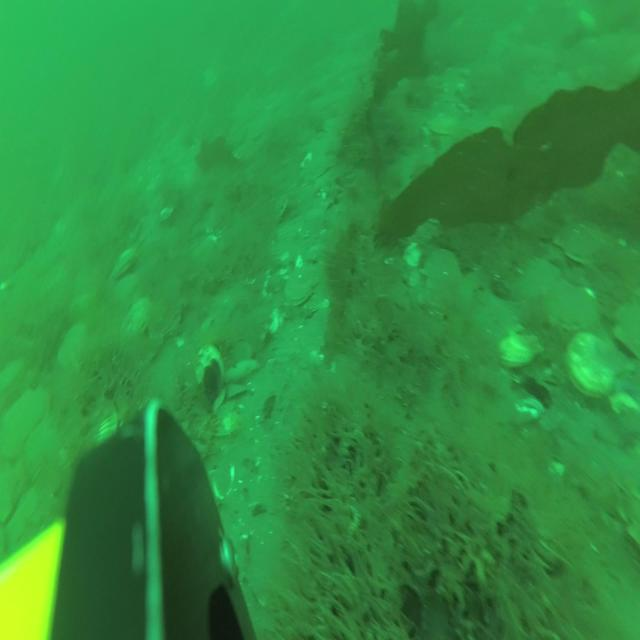scallop: (567, 330, 613, 394), (2, 389, 44, 458), (557, 210, 601, 266), (514, 254, 560, 304), (546, 279, 590, 330), (498, 326, 541, 373), (85, 402, 118, 455), (123, 297, 155, 347), (59, 328, 86, 382), (284, 268, 318, 306), (306, 148, 335, 182), (112, 244, 138, 280)
